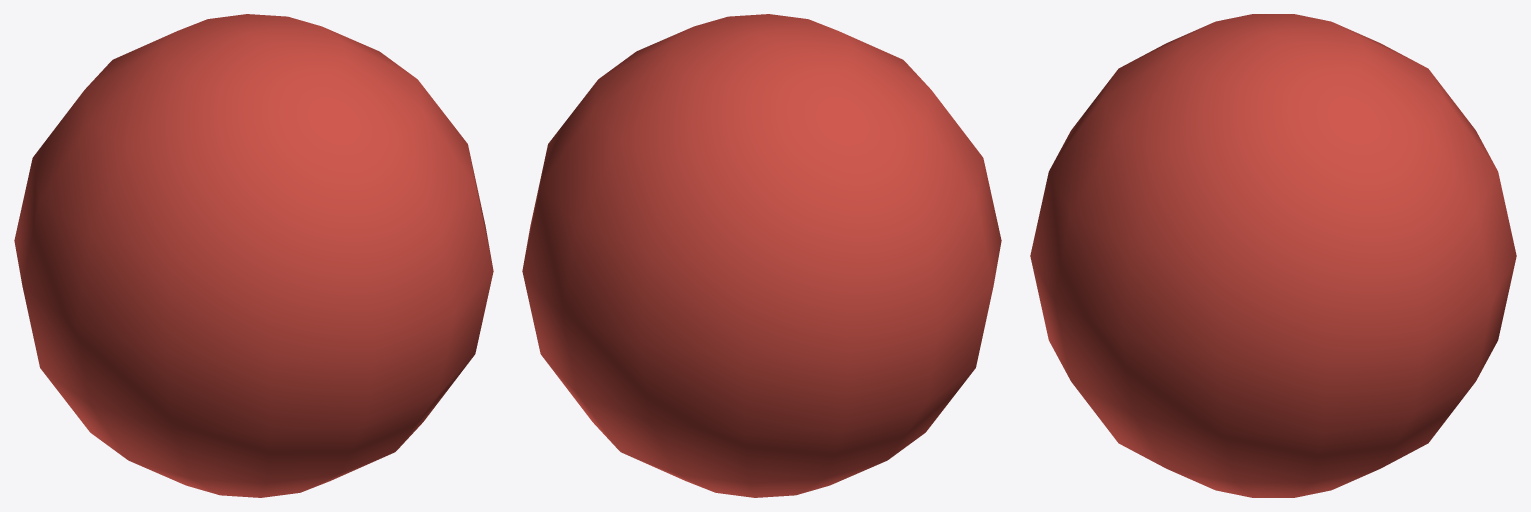
File: medicine_ball.glb
The picture shows the model from 3 angles, left to right: view 1: azimuth 30°, elevation 25°; view 2: azimuth 150°, elevation 25°; view 3: azimuth 270°, elevation 25°; orthographic projection.
Visible parts, largest first — view 1: medicine_ball; view 2: medicine_ball; view 3: medicine_ball.
Part boxes in pixels (x1,y1,x2,y2): medicine_ball: (14,14,493,497); medicine_ball: (522,14,1001,497); medicine_ball: (1030,14,1516,497).
Size of the model in its own units: 0.312 by 0.32 by 0.32.
